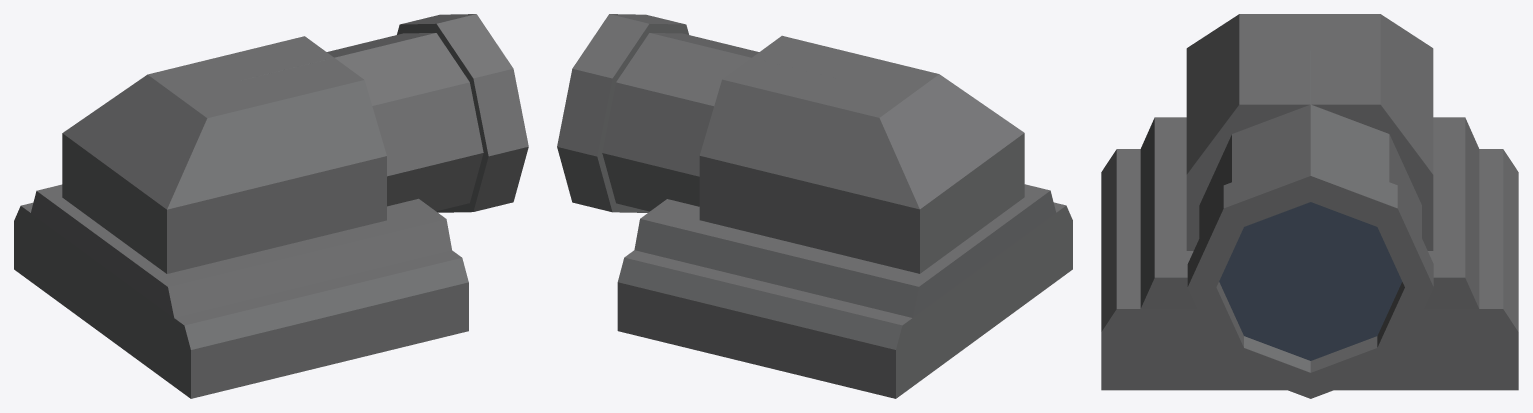
Rendered from acc-flashlight.glb.
3 views of the same model, side by side, from view 1: azimuth 30°, elevation 25°; view 2: azimuth 150°, elevation 25°; view 3: azimuth 270°, elevation 25° (orthographic). The views are drawn at different scales.
Visible parts, largest first — view 1: Flashlight; view 2: Flashlight; view 3: Flashlight.
Boxes of the visible parts, left/top/right/bottom form: Flashlight: left=14, top=14, right=528, bottom=398; Flashlight: left=557, top=14, right=1072, bottom=398; Flashlight: left=1101, top=14, right=1518, bottom=398.
Size of the model in its own units: 0.3898 by 0.2273 by 0.3185.
